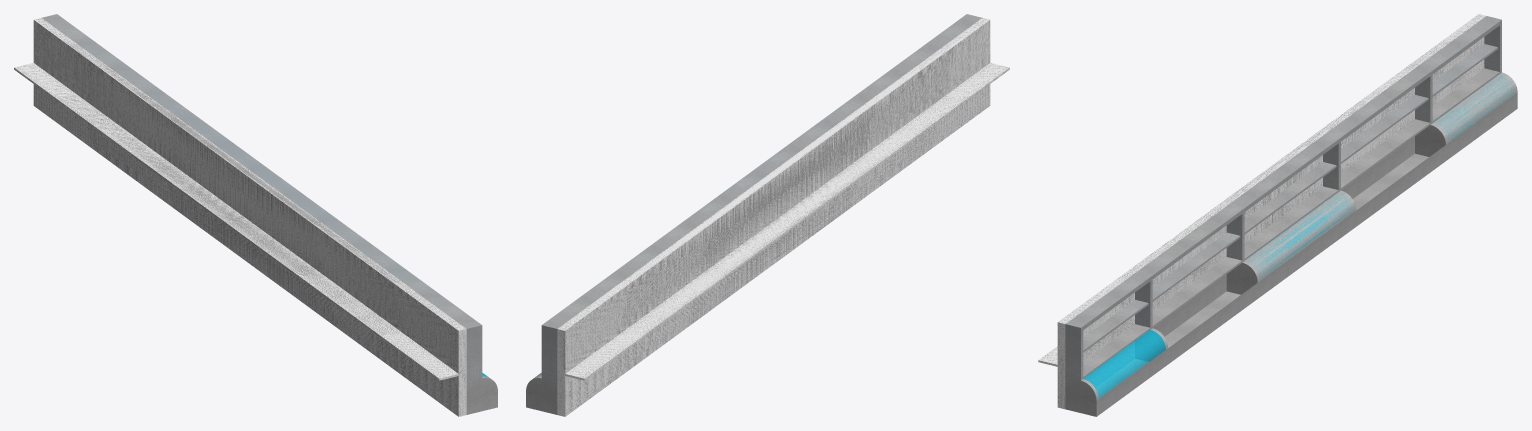
Rendered from twoSidedShelf1freezer.fbx.
3 views of the same model, side by side, from view 1: azimuth 30°, elevation 25°; view 2: azimuth 150°, elevation 25°; view 3: azimuth 330°, elevation 25° (orthographic).
Visible parts, largest first — view 1: Model; view 2: Model; view 3: Model.
Boxes of the visible parts, x1,y1,x2,y2 form: Model: [14, 14, 497, 416]; Model: [526, 14, 1009, 416]; Model: [1038, 14, 1517, 416].
Size of the model in its own units: 1.5 by 2.1 by 18.8.
